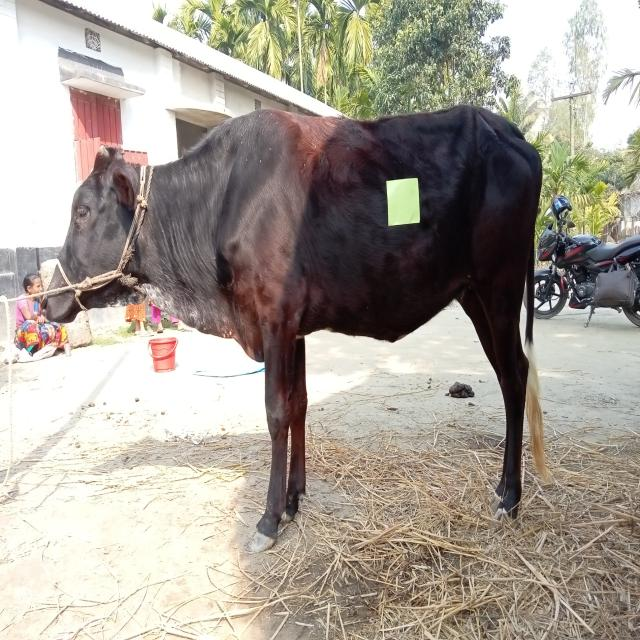badan_sapi: (258, 115, 526, 341)
sapi: (41, 107, 553, 553)
